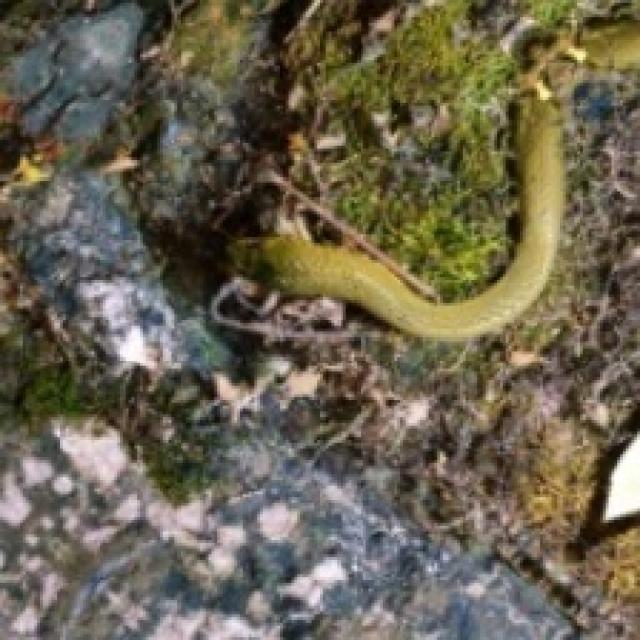gunthers philippine shrub snake: (234, 0, 637, 337)
